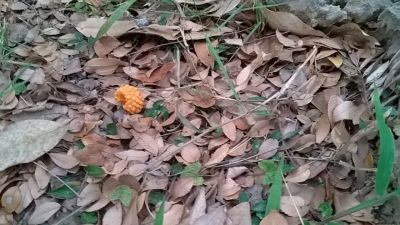eggs: (115, 84, 145, 113)
